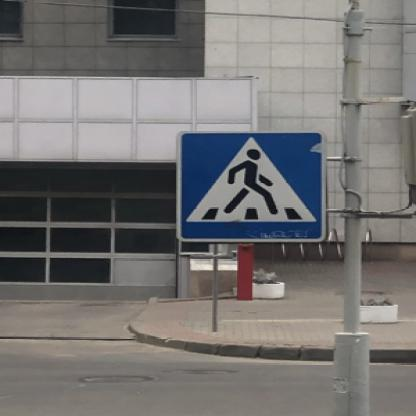crosswalk: (175, 128, 326, 242)
